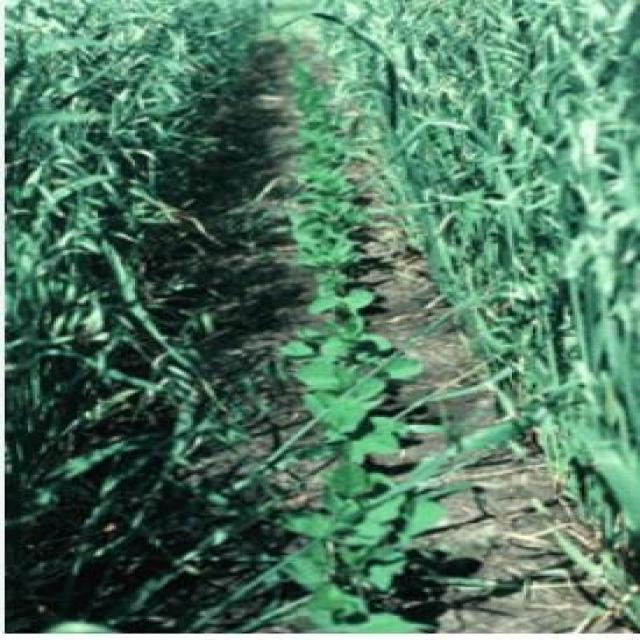row: (305, 38, 640, 635), (21, 31, 300, 639)
